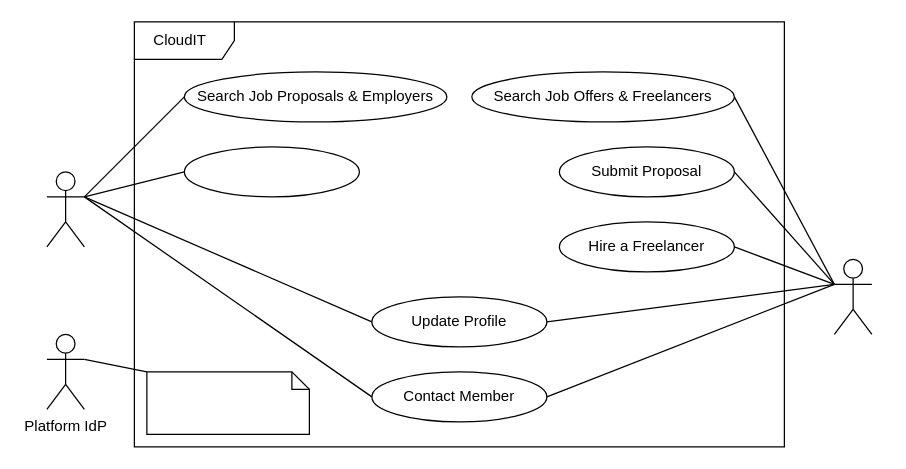
Image size: 906x469. Some labels were removed from this diagram. Each missing label, with the centre of its shape:
All use cases require authentication of users, using the platform IdP: point 227,402
Employer: point 852,296
IT Freelancer: point 65,209
Post a Job: point 271,171
